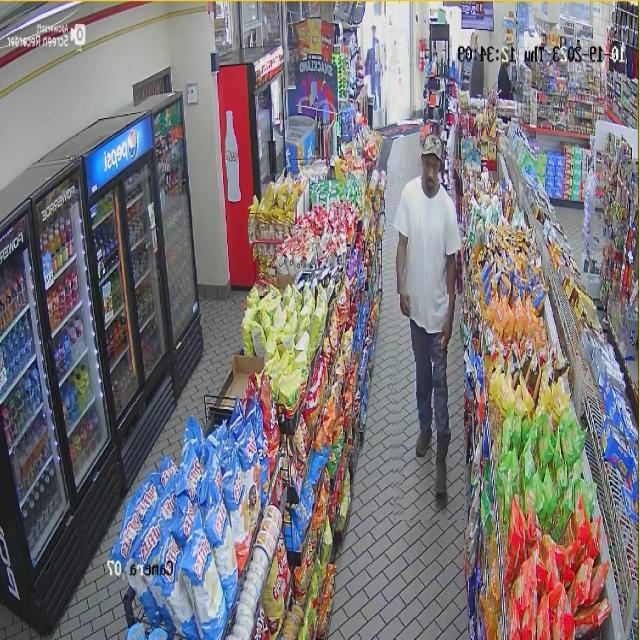Normal: (388, 125, 464, 520)
